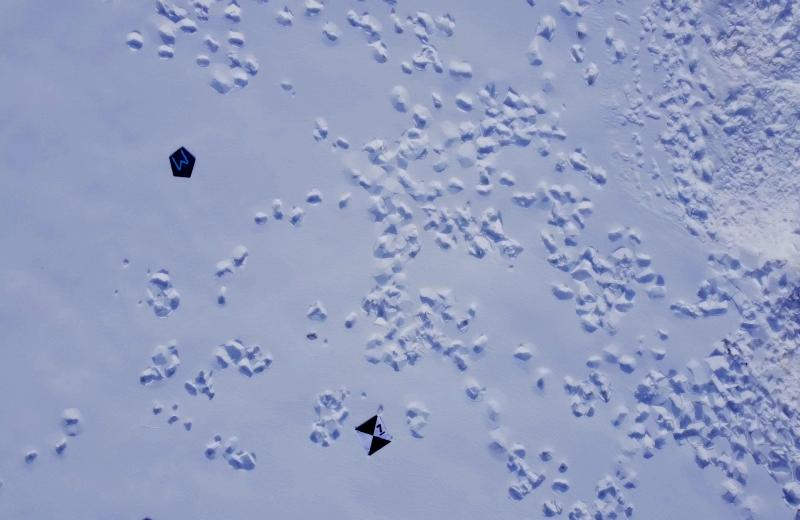Pentagon: (164, 142, 199, 186)
